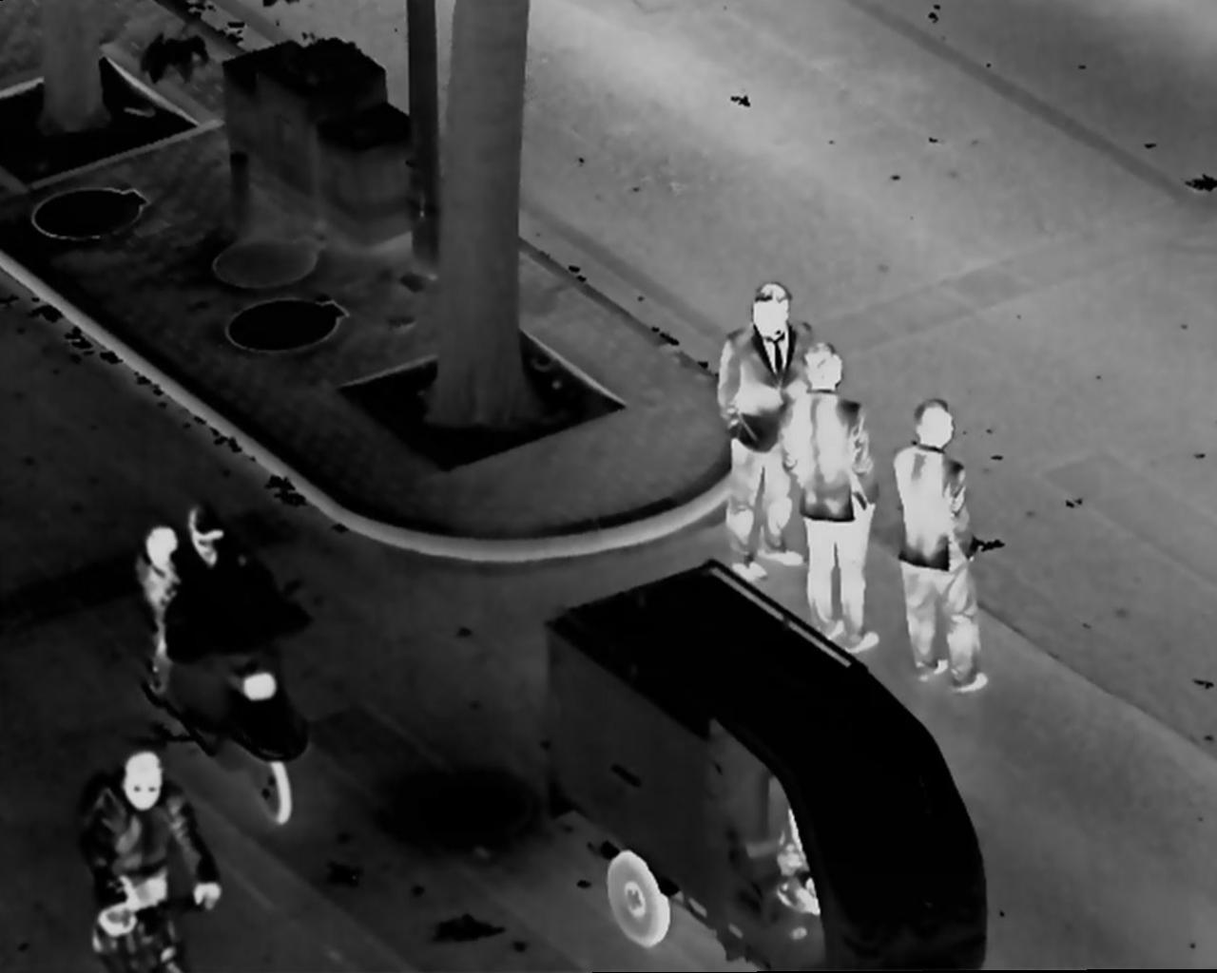person: (888, 401, 999, 696), (778, 343, 882, 653), (70, 743, 222, 954), (715, 280, 814, 585), (139, 512, 183, 671)
